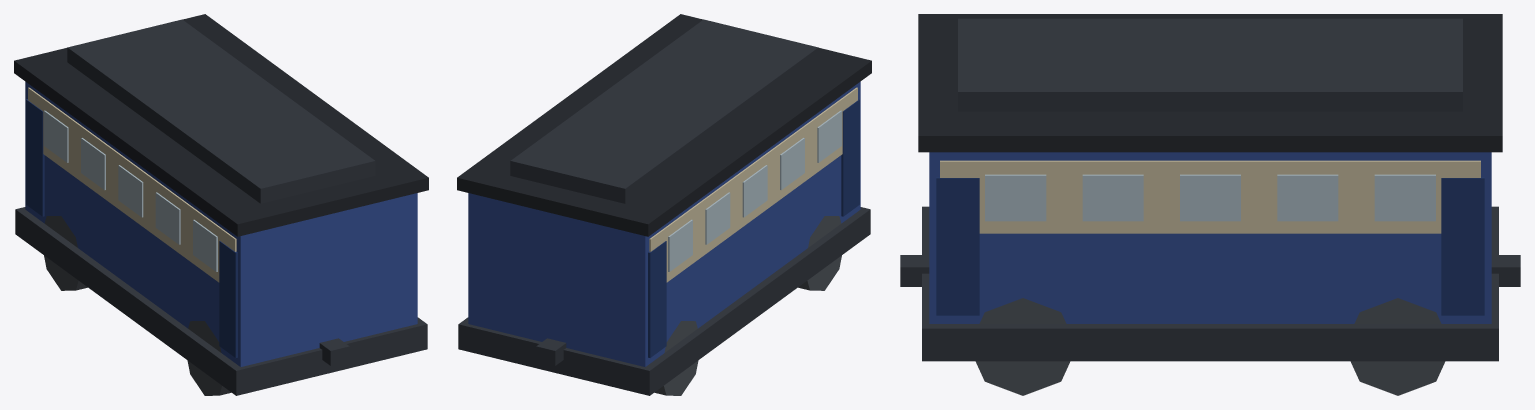
Rendered from wagon_coach.glb.
3 views of the same model, side by side, from view 1: azimuth 30°, elevation 25°; view 2: azimuth 150°, elevation 25°; view 3: azimuth 270°, elevation 25° (orthographic). The views are drawn at different scales.
Parts seen in each view (by area): view 1: wagon_coach; view 2: wagon_coach; view 3: wagon_coach.
Boxes of the visible parts, <box> form: wagon_coach: <box>14,14,428,395</box>; wagon_coach: <box>457,14,871,395</box>; wagon_coach: <box>900,14,1520,395</box>.
Size of the model in its own units: 0.8 by 0.87 by 1.72.
